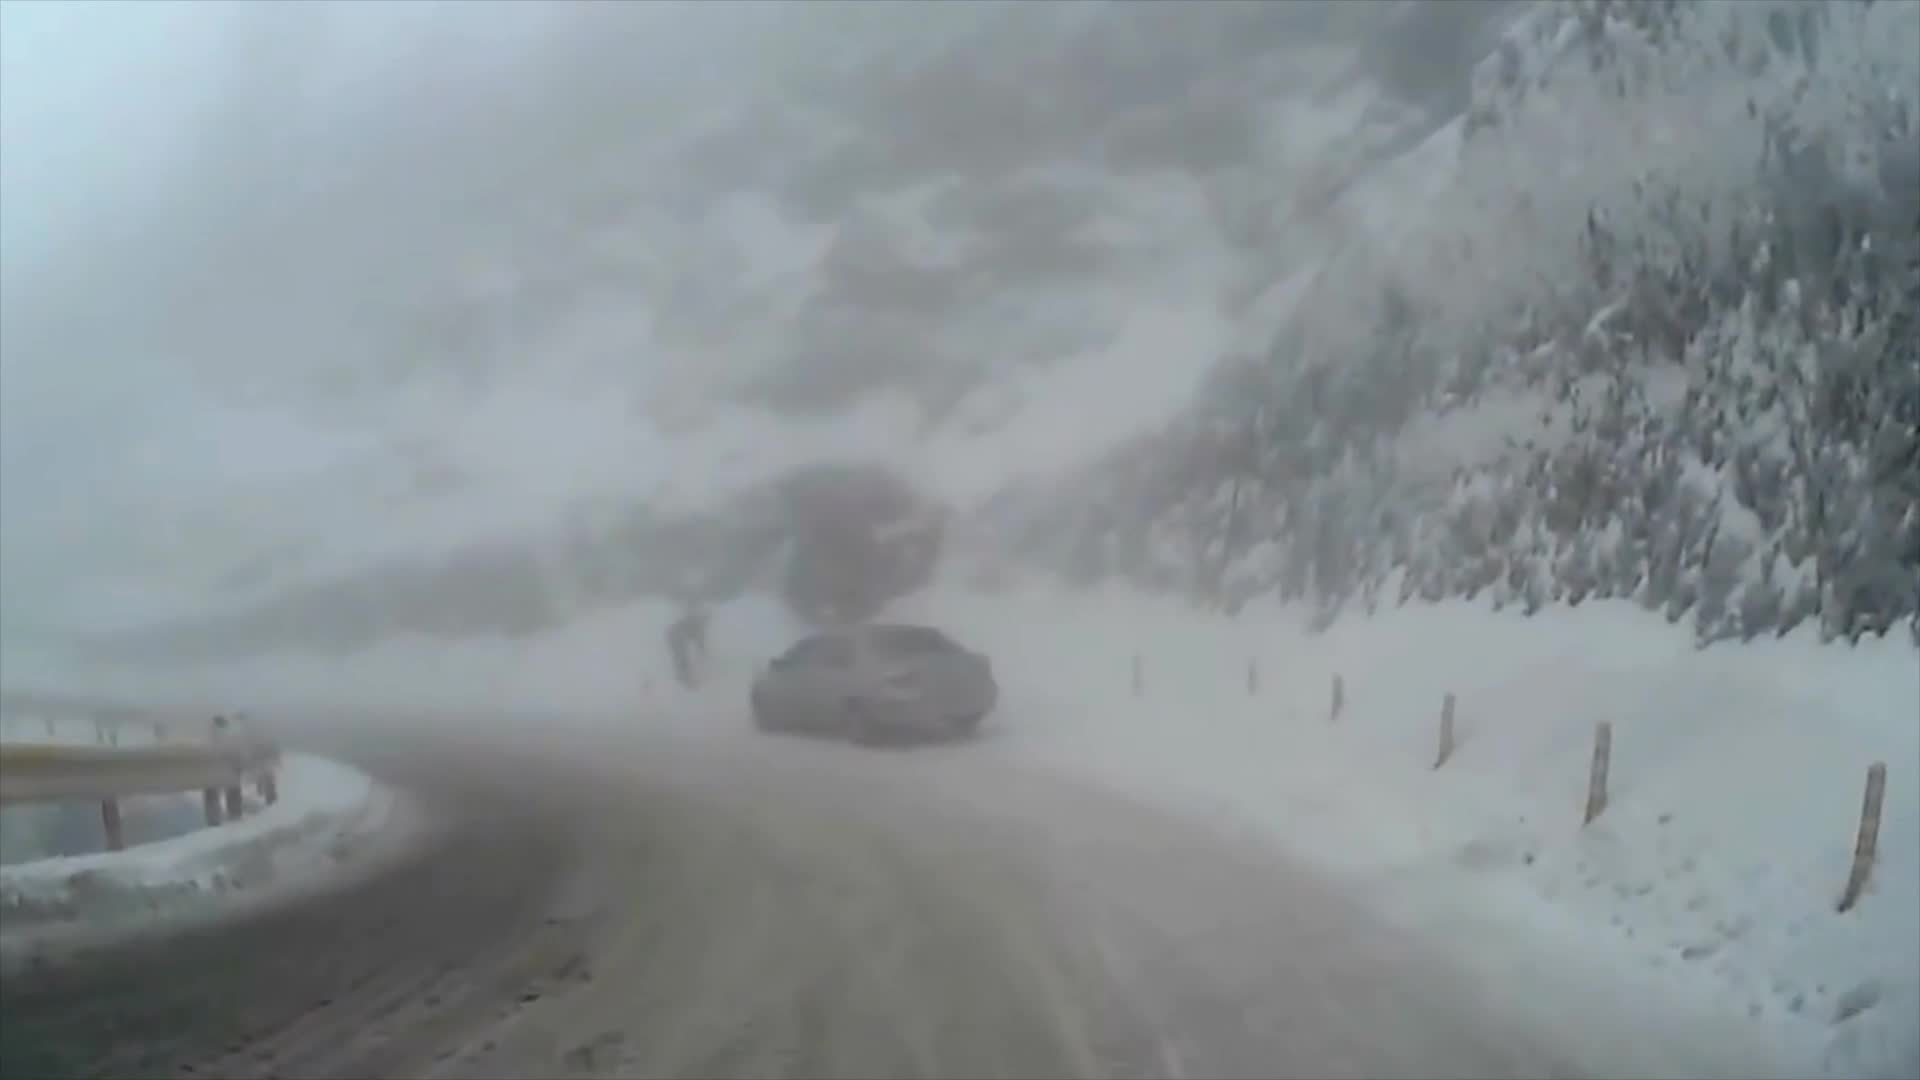pedestrian: (666, 613, 712, 694)
vehicle: (748, 623, 995, 747)
